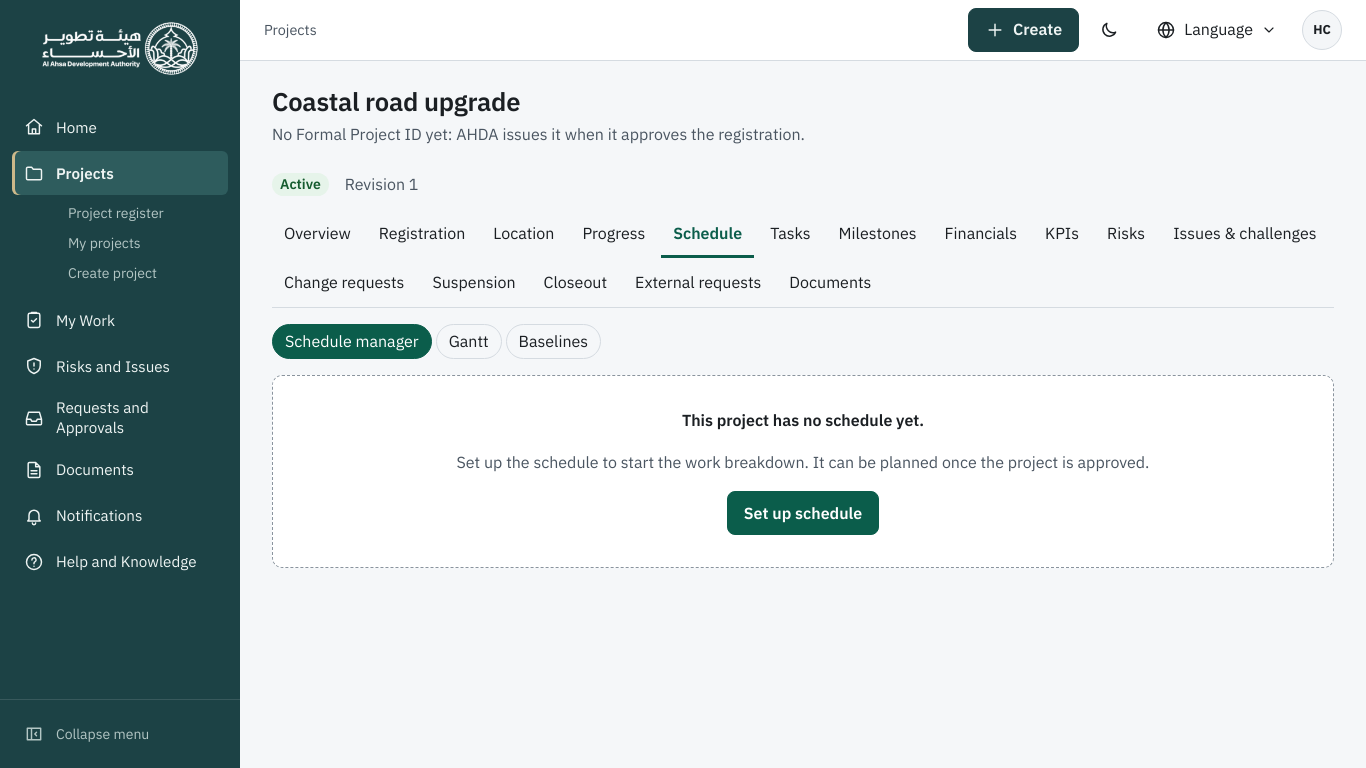
Test: SCR-060 Schedule Manager › the Project Manager sets up a schedule; anyone else is told who will
Click the button "Set up schedule" at (803, 513), box [727,491,879,535]
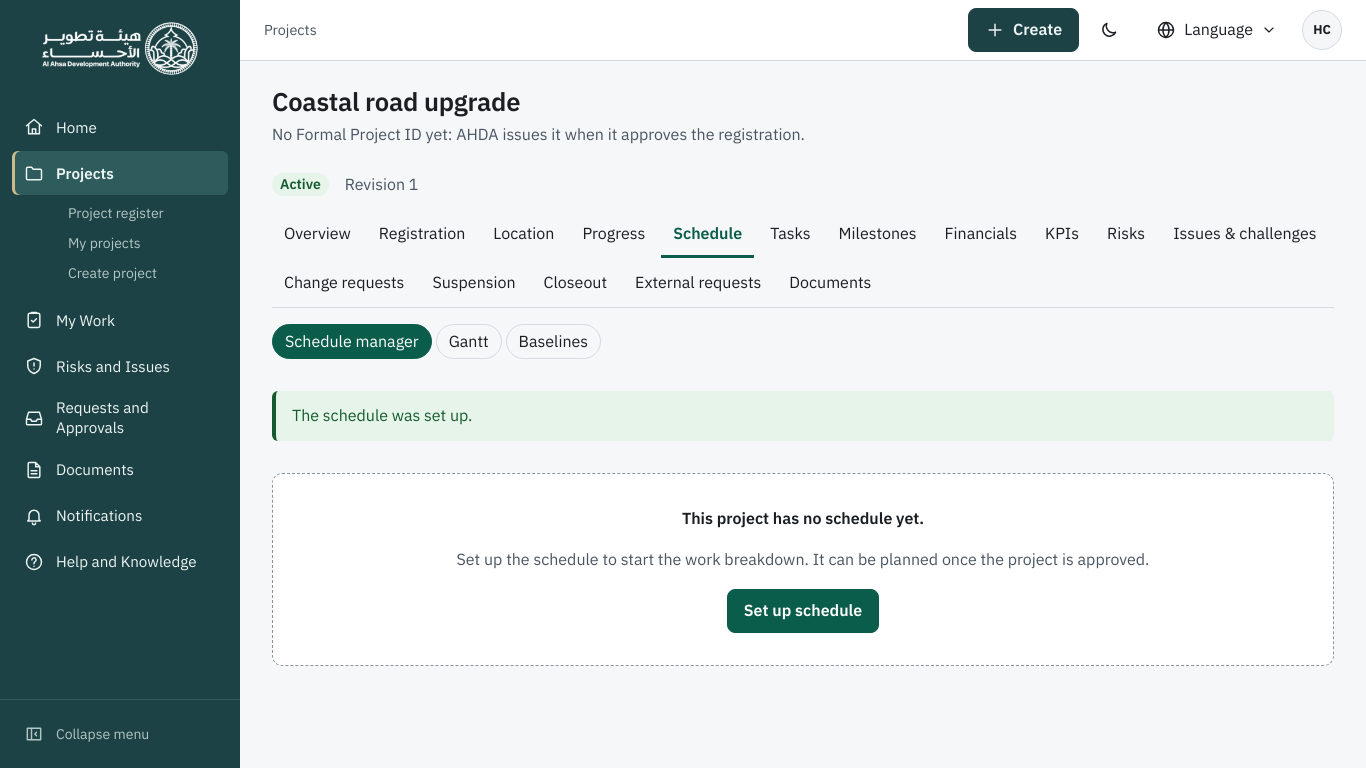
Expected: the text "The schedule was set up." is shown, [272,391,1334,441]
